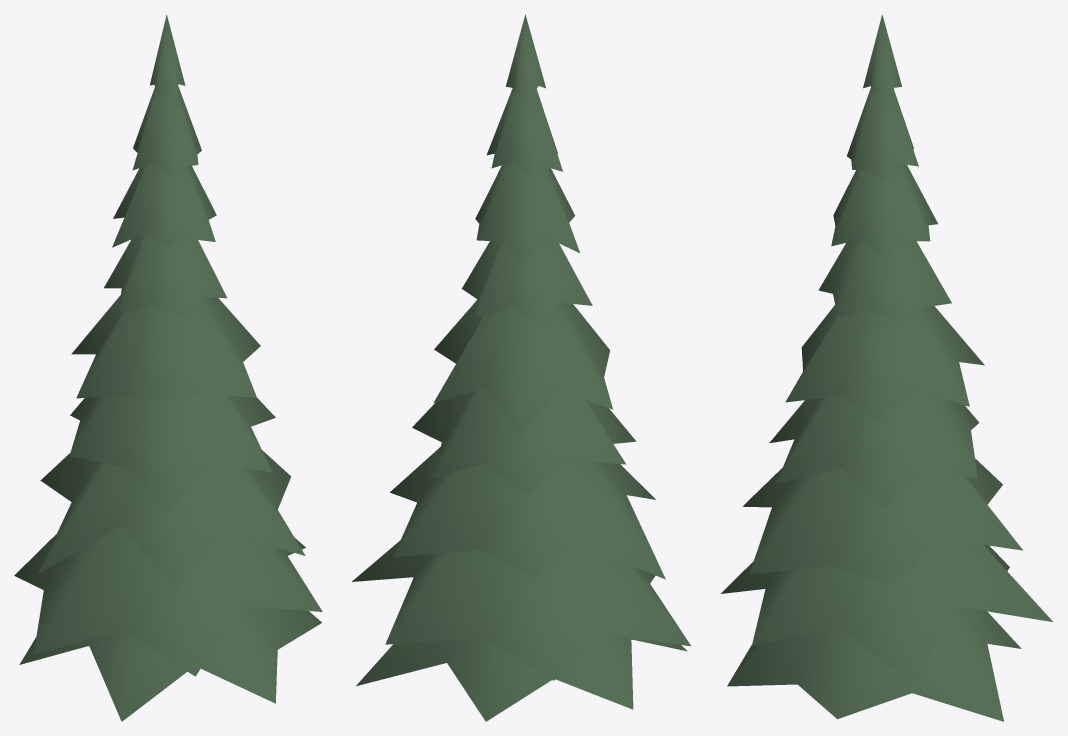
File: ll_spruce.gltf
3 renders of one model, left to right at view 1: azimuth 30°, elevation 25°; view 2: azimuth 150°, elevation 25°; view 3: azimuth 270°, elevation 25°, orthographic. The views are drawn at different scales.
Parts seen in each view (by area): view 1: spruce; view 2: spruce; view 3: spruce.
Boxes of the visible parts, x1=… form: spruce: x1=14, y1=14, x2=322, y2=721; spruce: x1=352, y1=14, x2=690, y2=721; spruce: x1=721, y1=14, x2=1053, y2=721.
Bounding box in the file's own units: 7.02 × 14.22 × 6.55.
